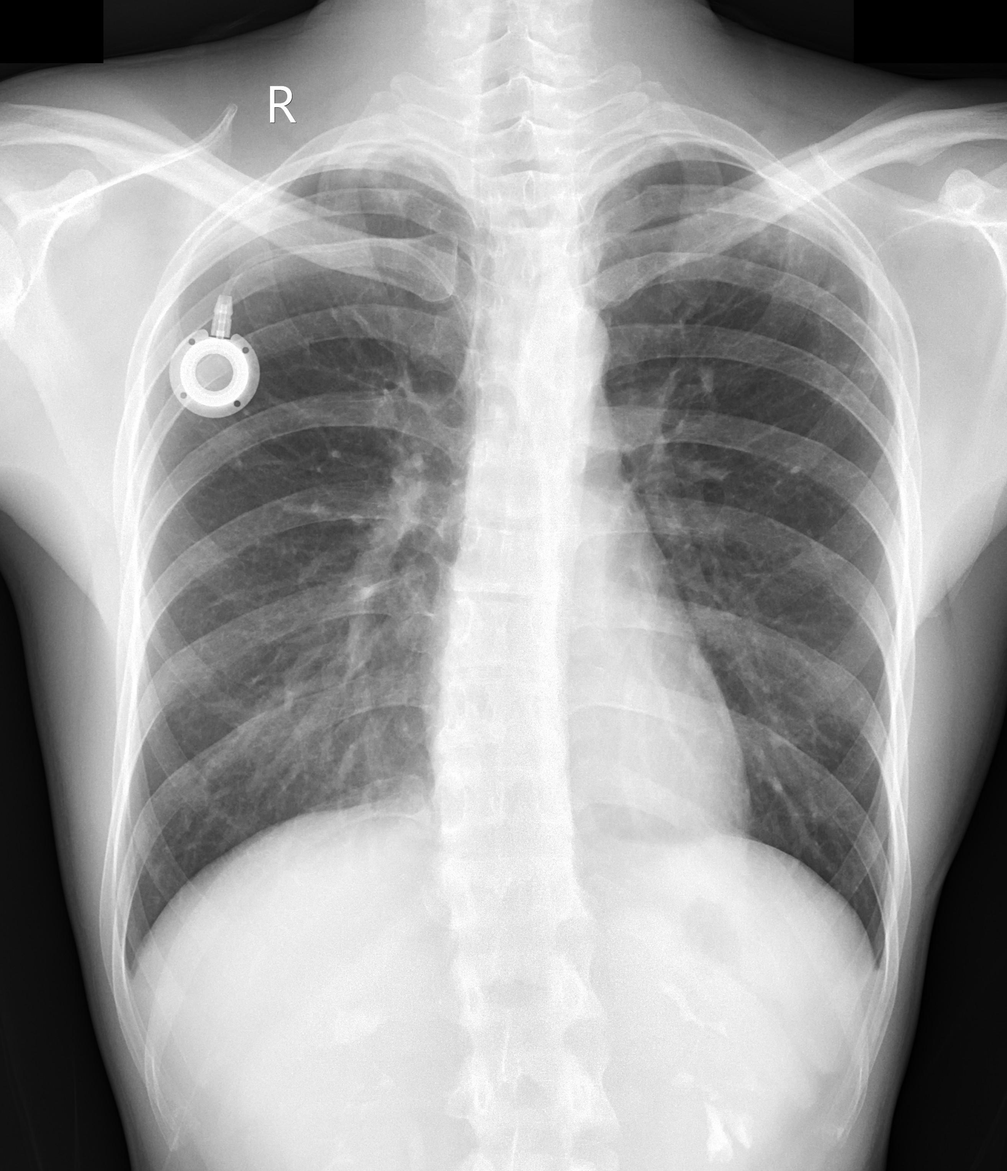Pleural thickening: (311, 143, 468, 222)
Pulmonary fibrosis: (735, 210, 891, 405)
